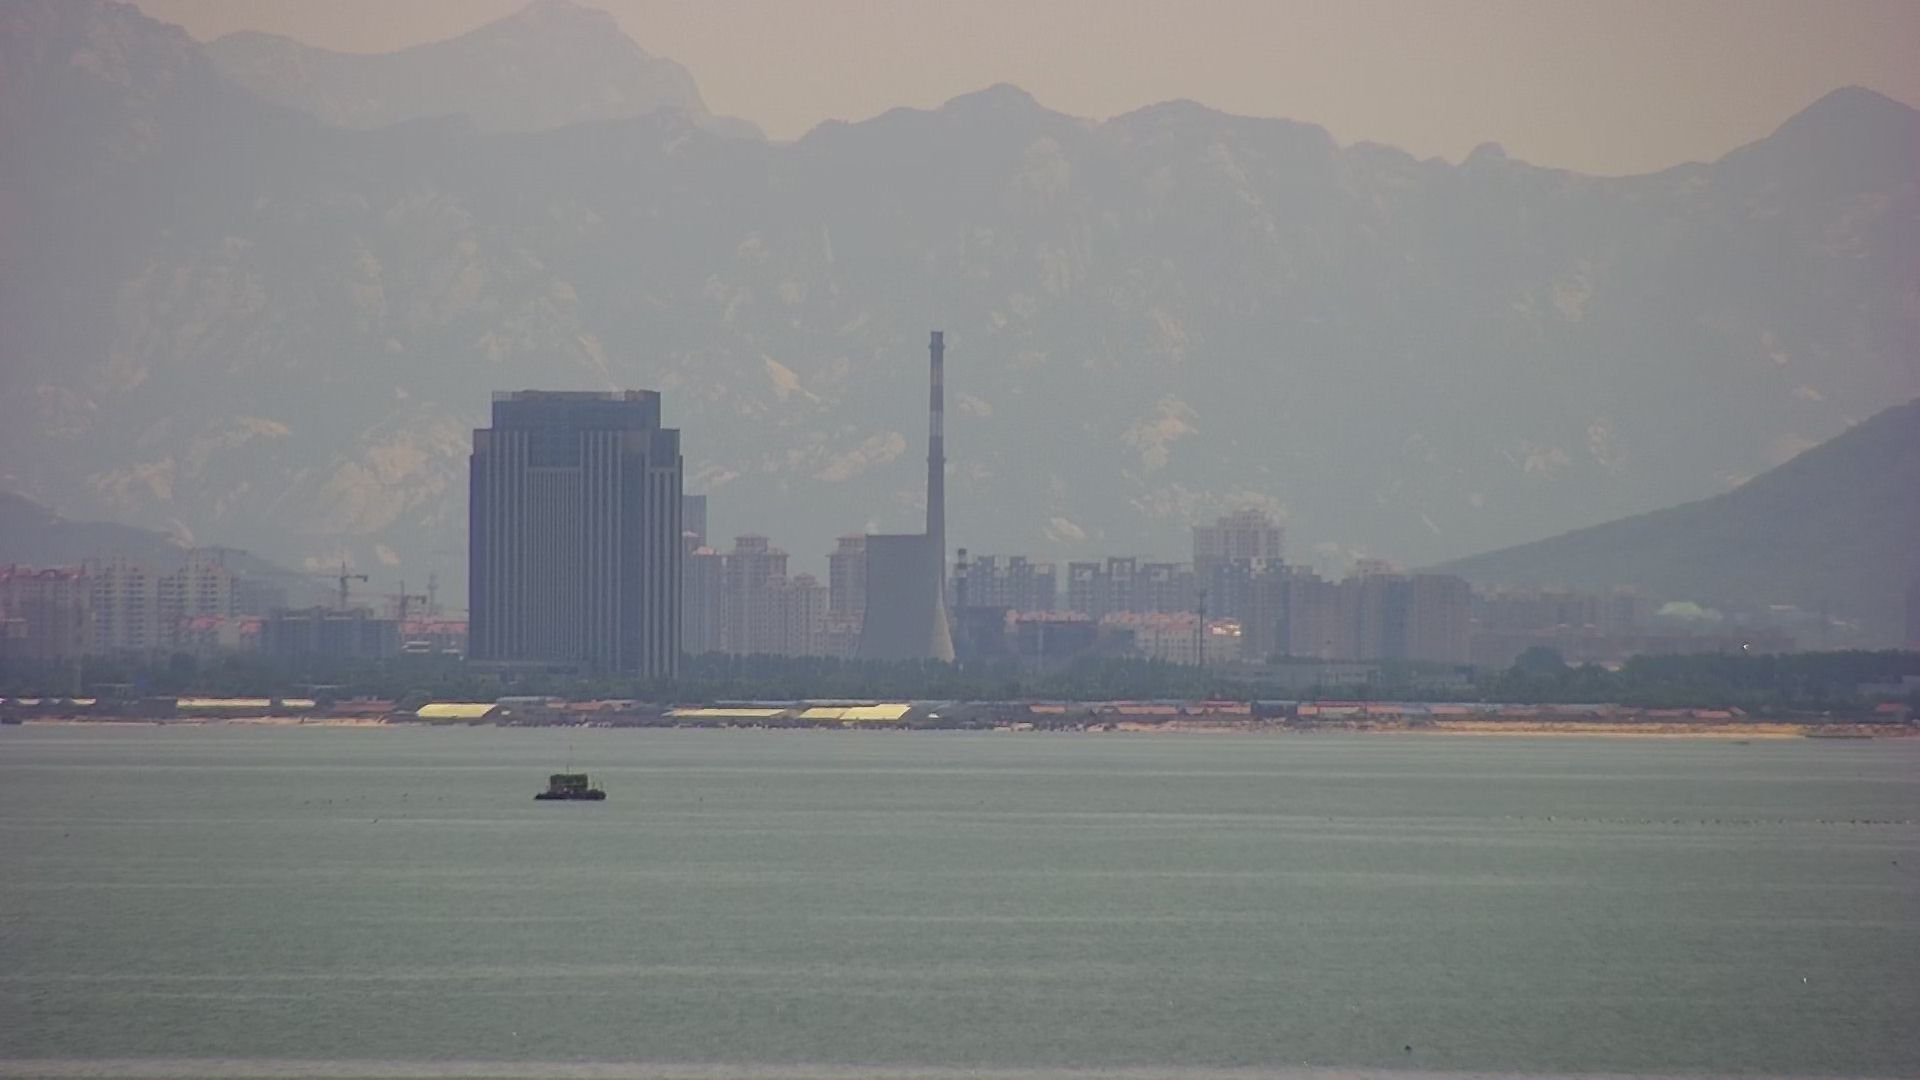platform: (534, 764, 611, 804)
